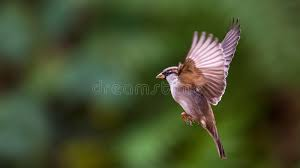hsparrow: (153, 17, 244, 161)
